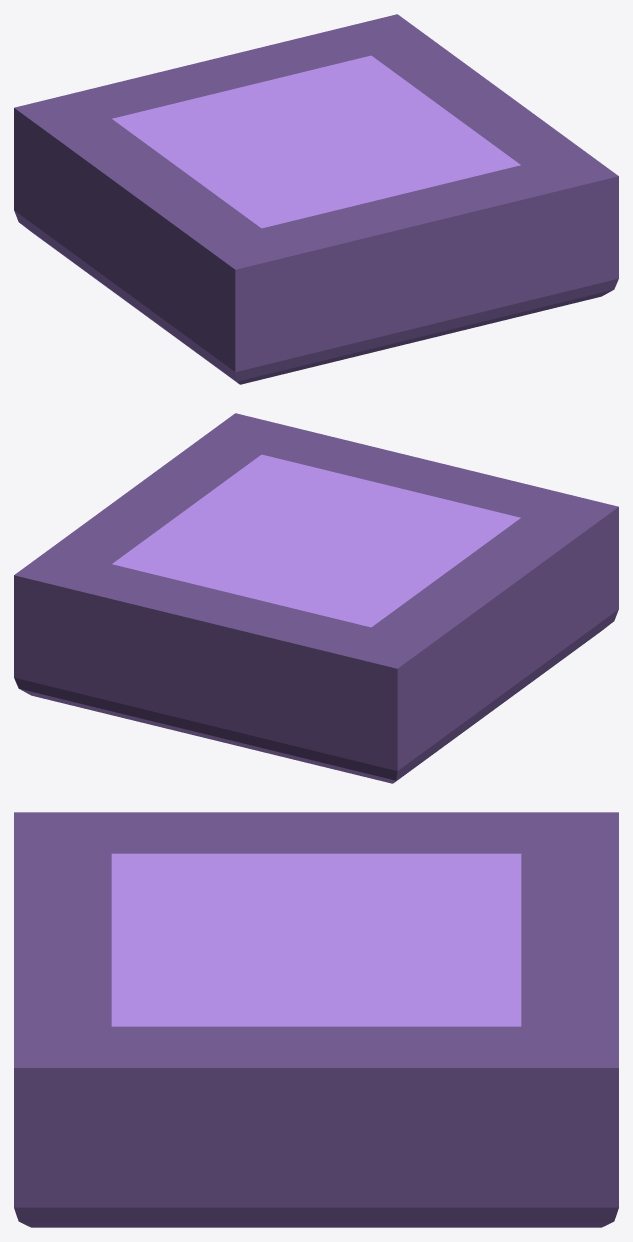
Rendered from Floor.fbx.
3 views of the same model, one above another, from view 1: azimuth 30°, elevation 25°; view 2: azimuth 150°, elevation 25°; view 3: azimuth 270°, elevation 25° (orthographic). The views are drawn at different scales.
Parts seen in each view (by area): view 1: Cube; view 2: Cube; view 3: Cube.
Boxes of the visible parts, box(x1,y1,x2,y2) form: Cube: box(14, 14, 618, 384); Cube: box(14, 413, 618, 783); Cube: box(14, 812, 618, 1227).
Size of the model in its own units: 320 by 100 by 320.
